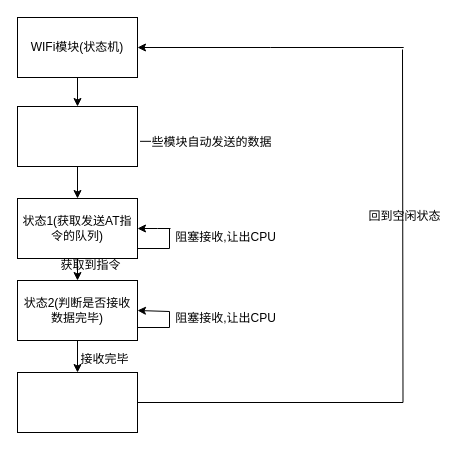
Image size: 467x450. Some labels were removed from this diagram. Each missing label, with the box of its shape:
状态0(空闲任务): (16, 106, 138, 166)
状态3(执行对应命令的解析函数): (16, 372, 138, 432)
